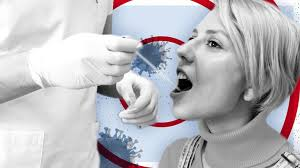Gloves: (30, 27, 146, 96), (116, 71, 162, 127)
without_mask: (172, 14, 241, 125)
